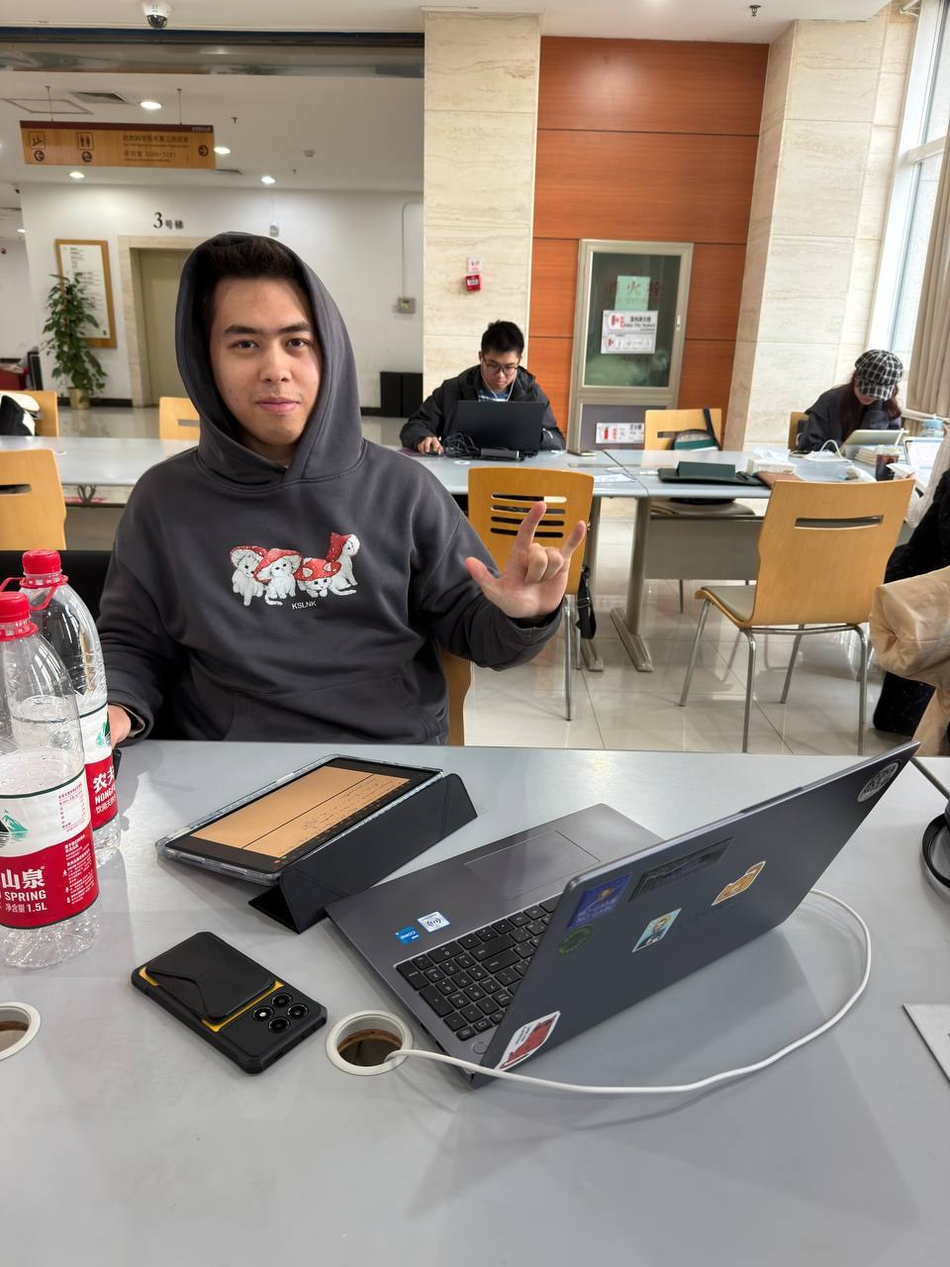cell phone: (131, 930, 328, 1075)
laptop: (324, 739, 923, 1091), (452, 399, 547, 460)
